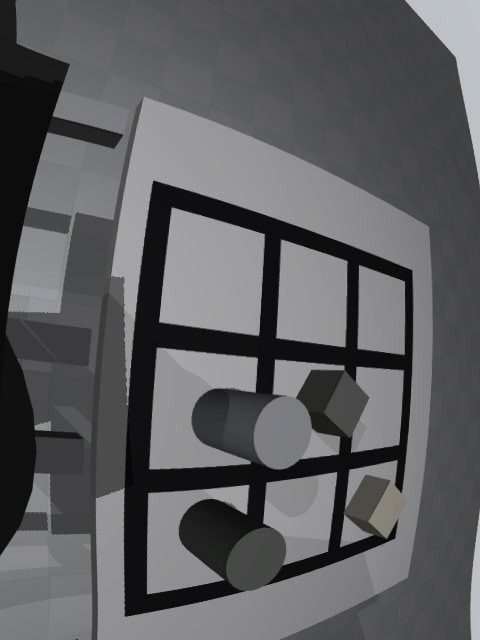can: (191, 389, 312, 470)
cube: (296, 370, 369, 438)
cylinder: (179, 499, 286, 591)
foam: (343, 475, 407, 539)
